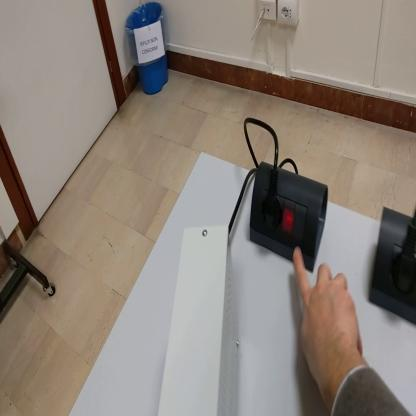hand: (294, 247, 364, 385)
power supply: (158, 224, 238, 415)
socket: (249, 164, 329, 276), (367, 202, 416, 325)
